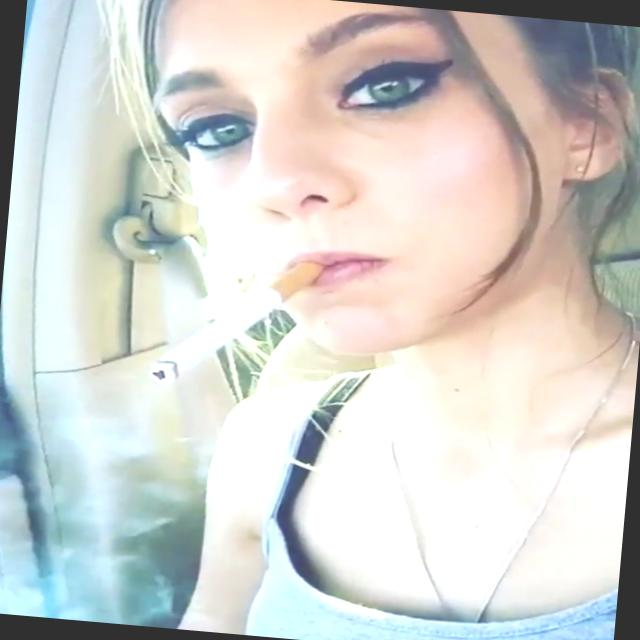cigarette: (136, 240, 333, 404)
